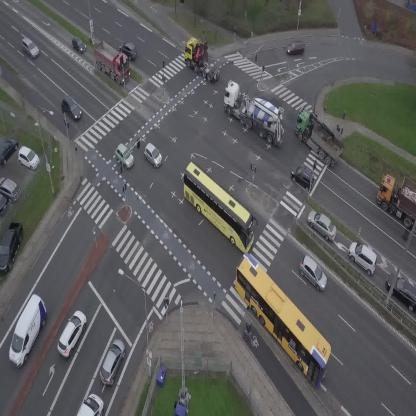bicycle: (243, 322, 252, 341)
bus: (217, 251, 345, 387), (169, 159, 268, 254)
car: (52, 308, 91, 359), (96, 337, 130, 387), (343, 238, 385, 277), (293, 254, 334, 293), (302, 206, 342, 244), (286, 161, 320, 194), (111, 142, 139, 171), (57, 95, 84, 123), (140, 142, 167, 169), (17, 35, 41, 60), (117, 38, 141, 62), (67, 34, 88, 56), (286, 40, 306, 55)
lorry: (212, 78, 299, 149), (285, 104, 351, 169), (0, 293, 54, 369), (85, 36, 139, 87), (177, 31, 222, 88), (377, 173, 416, 233), (77, 394, 104, 416)
